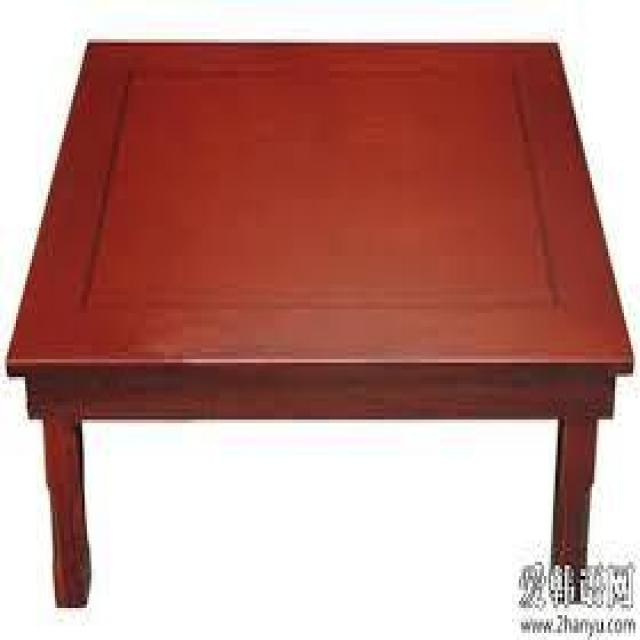table: (8, 14, 630, 615)
